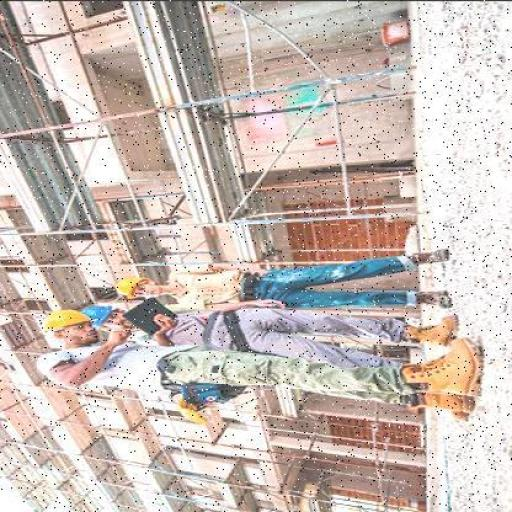person: (24, 310, 482, 424), (114, 246, 466, 320)
safety_shoe: (413, 342, 479, 394), (400, 311, 457, 340), (417, 287, 452, 311), (414, 248, 446, 265)
